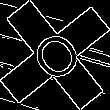O_SE: (22, 22, 88, 88)
